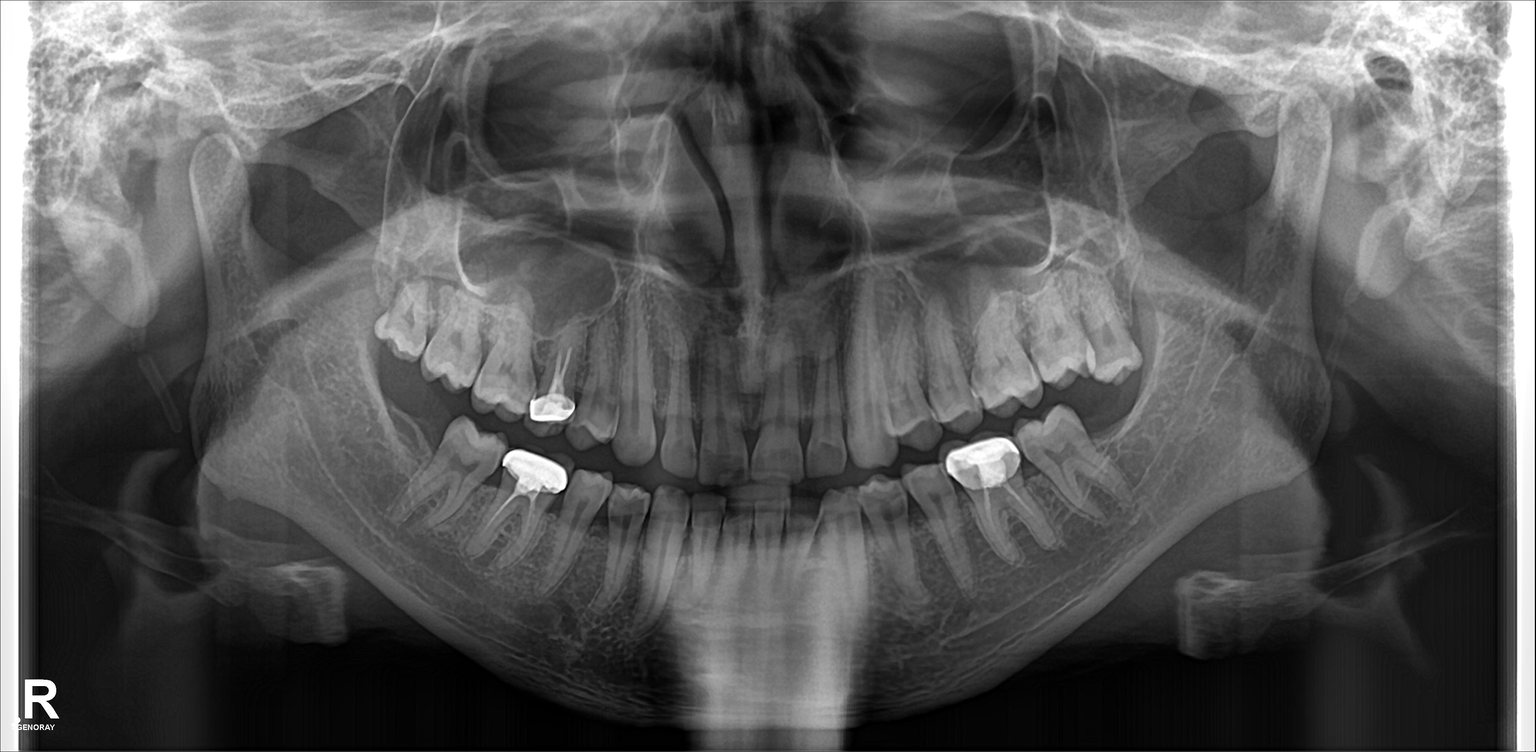Endodontically Treated Tooth: (953, 447, 1026, 559), (507, 450, 560, 572), (538, 329, 574, 426)
Missing Tooth: (374, 383, 434, 477), (1086, 396, 1140, 465)
